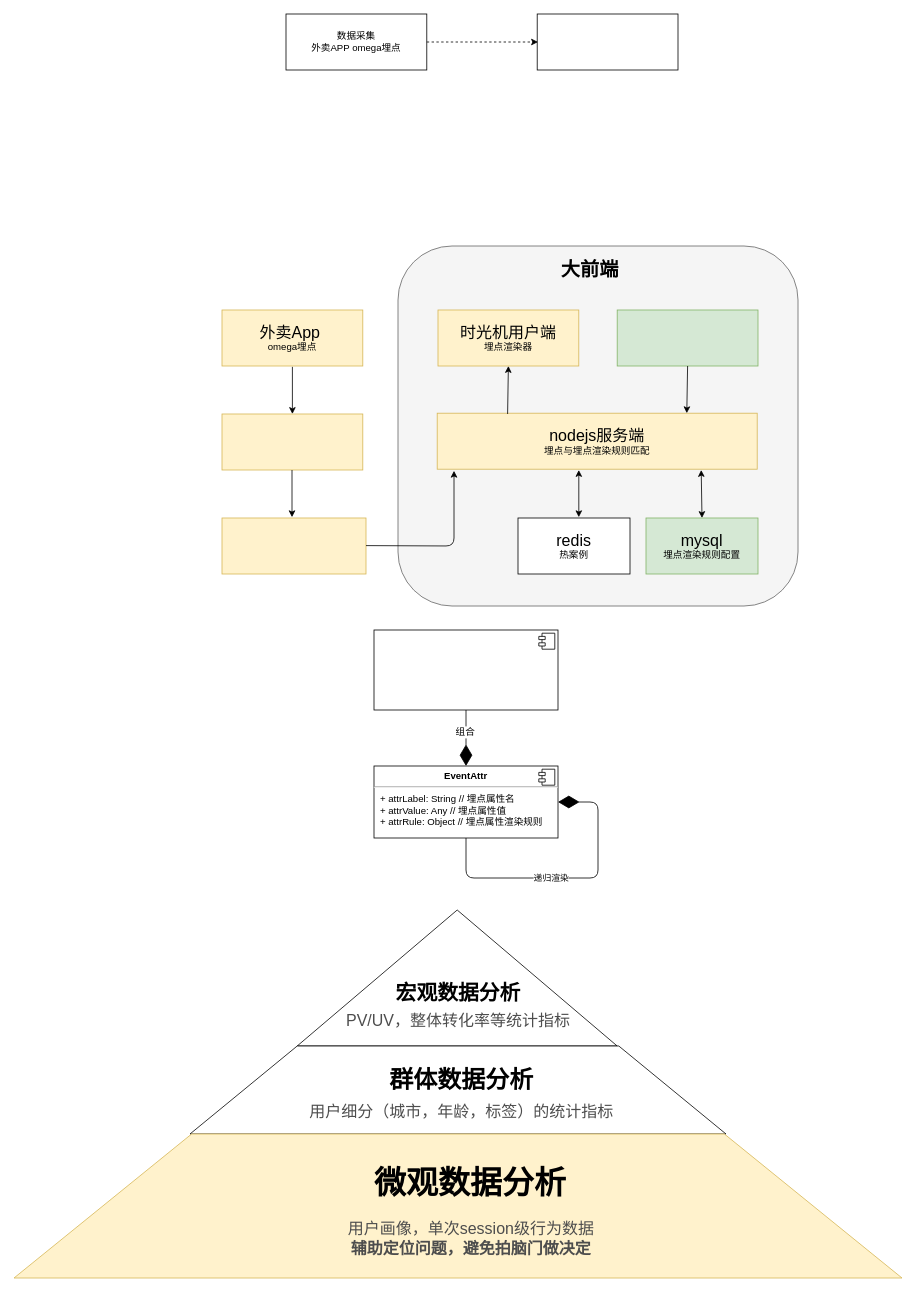
Some shapes in this 916 by 1292 pixel diagram are drawn without their labels. The centre of each missing label's shape, as x and y in pixels:
Druid 实时大数据仓库: point (293, 545)
Event + eventData: Object //埋点数据 + eventRule: Object //埋点渲染规则: point (465, 669)
web用户端 场景还原: point (607, 41)
web管理端 埋点渲染规则配置: point (687, 337)
数据清洗/处理: point (292, 441)
